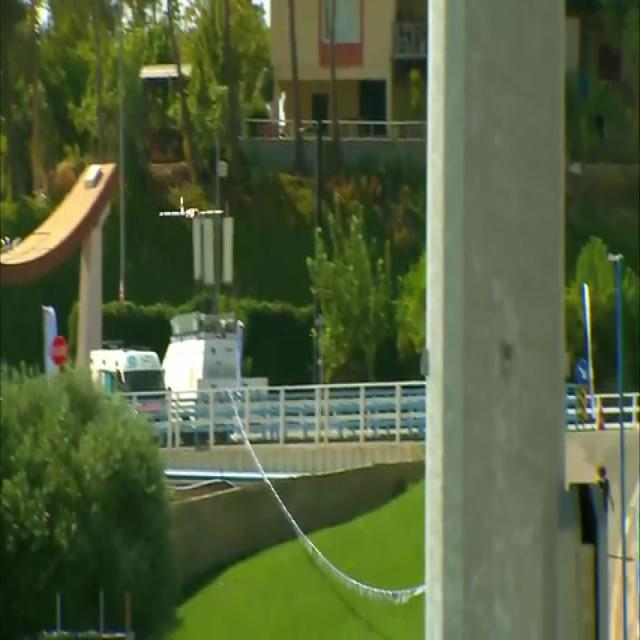iha: (190, 195, 192, 222)
